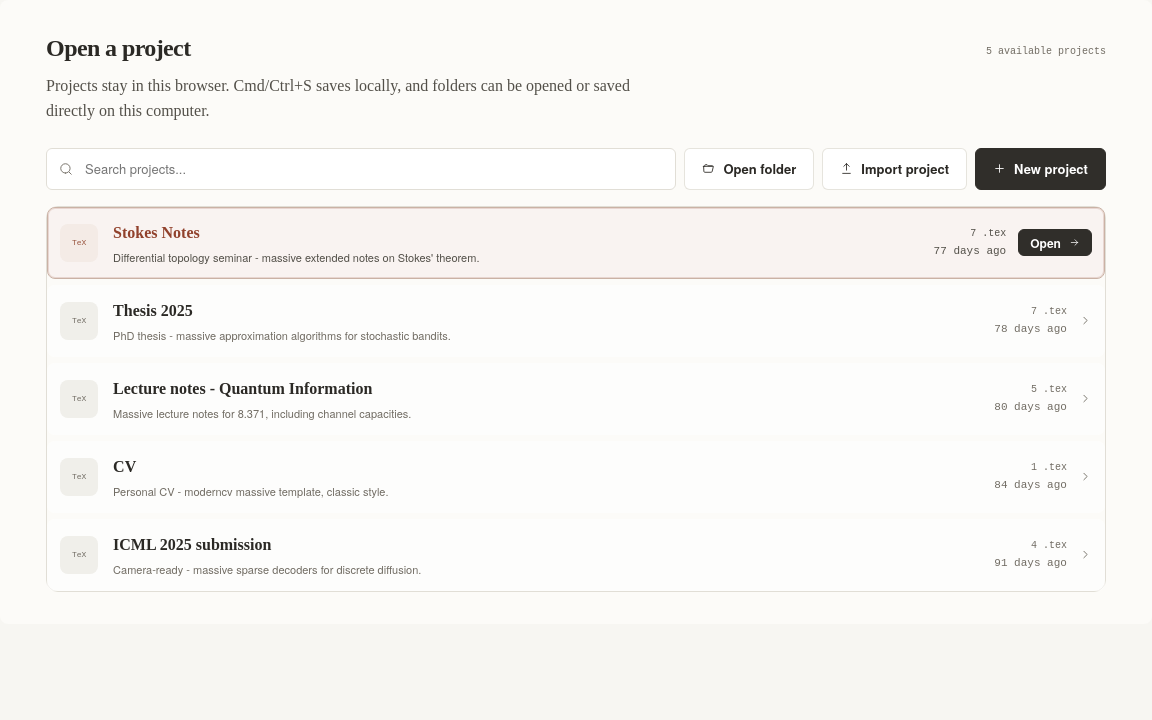
<ProjectPicker /> › clears an active search without requiring text selection
Check: the text "Stokes Notes" is shown, box [113,221,200,245]
In the field labelled "Search projects...": {"x": 361, "y": 169} [46,148,676,190], type "thesis"
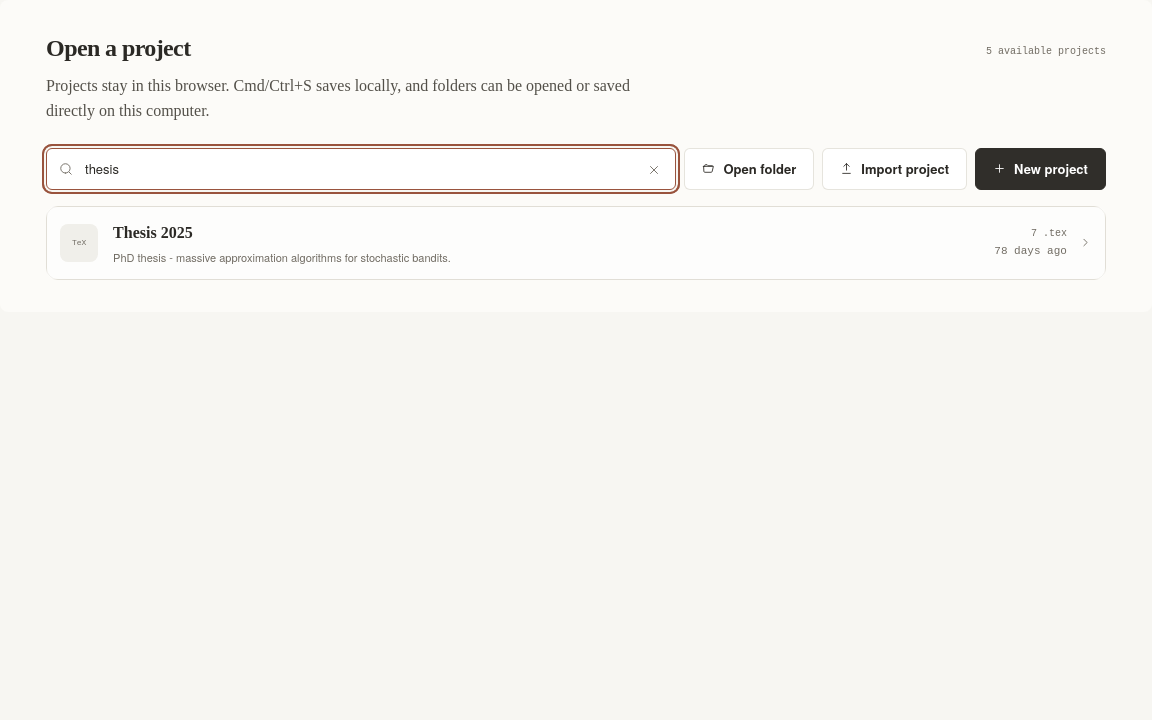
Check: the button "Stokes Notes" is gone
Click the button named "clear project search": {"x": 654, "y": 170} [638,153,672,187]
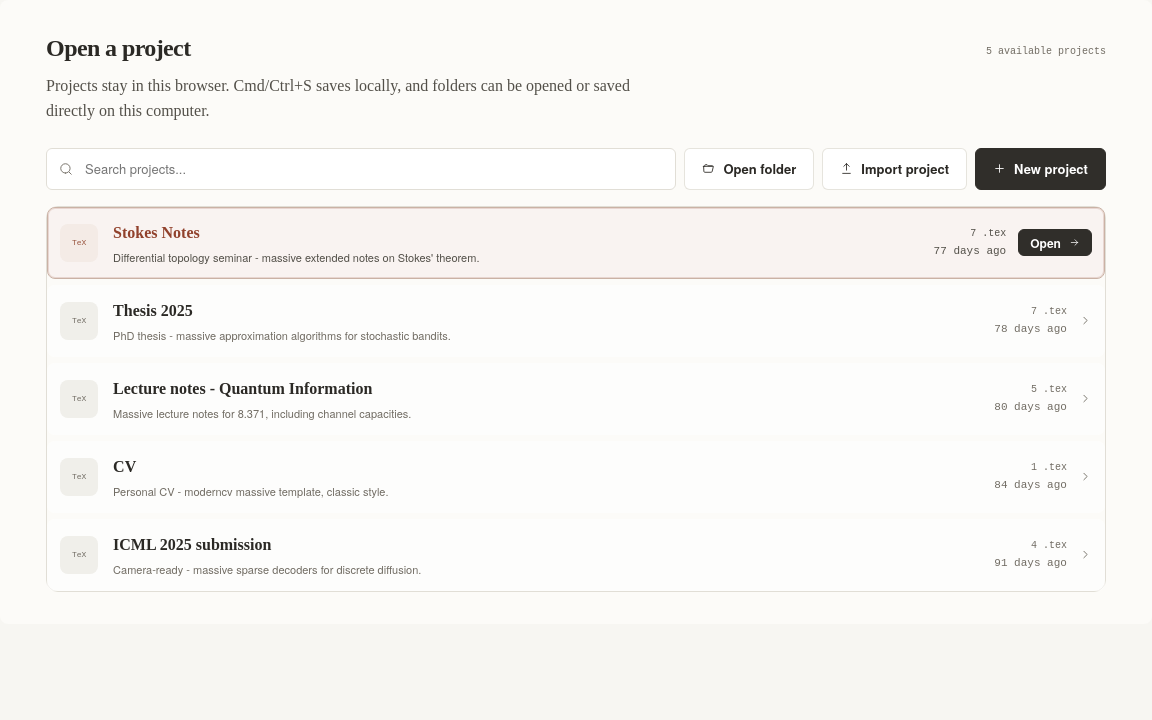
Check: the text "Stokes Notes" is shown, box [113,221,200,245]
Check: the field labelled "Search projects..." is empty, box [46,148,676,190]
